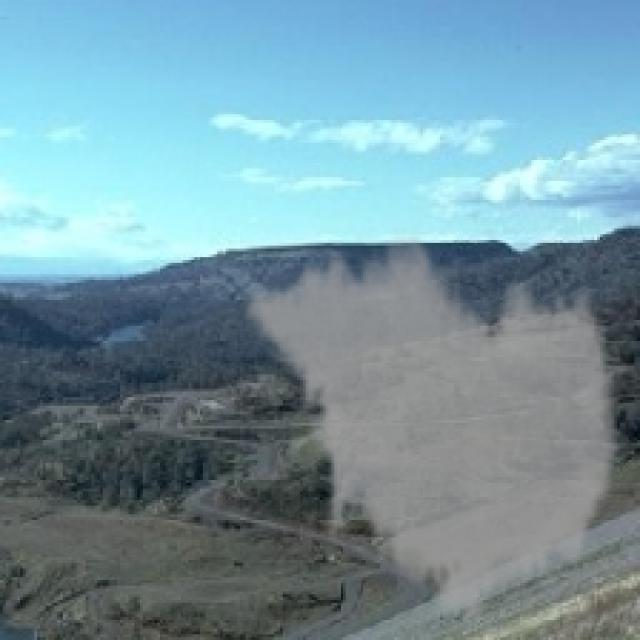Smoke: (243, 223, 626, 632)
